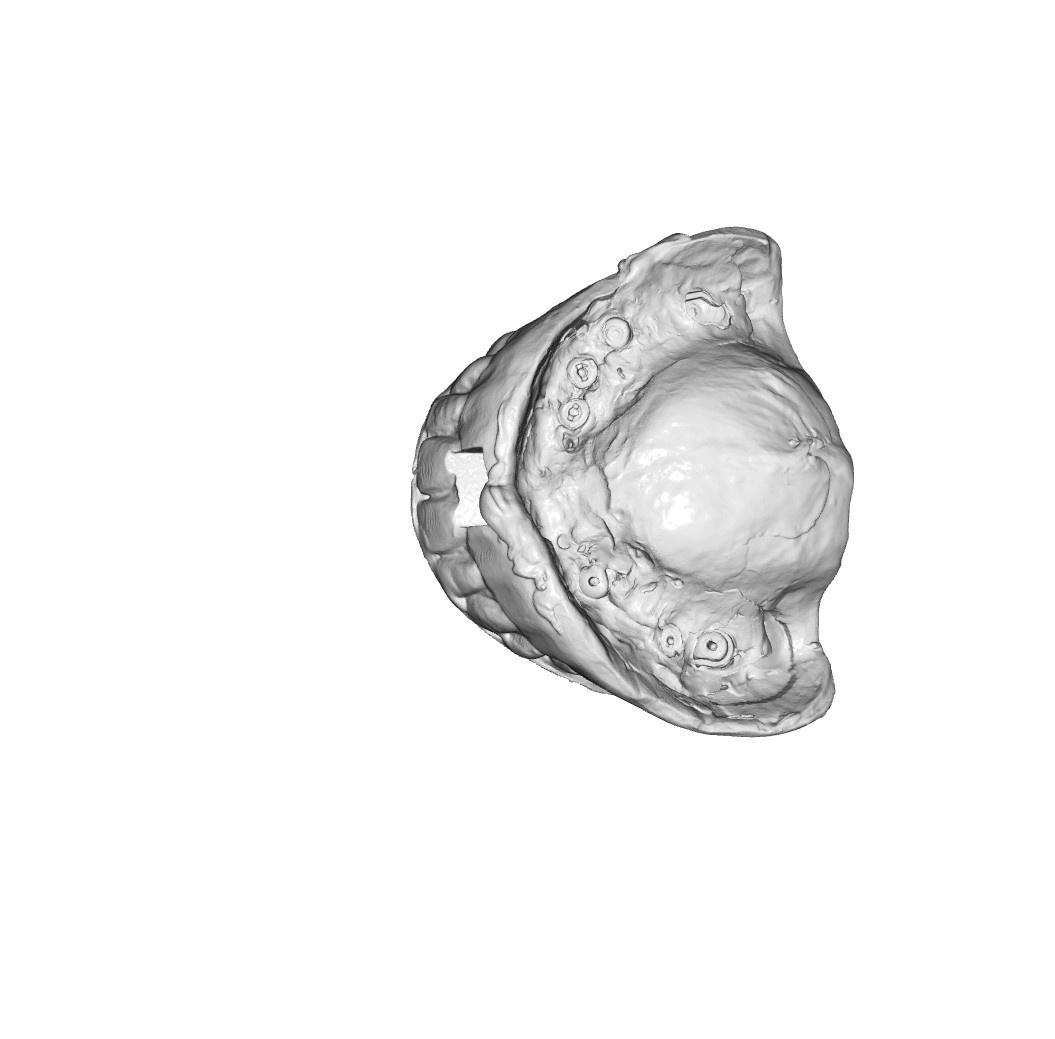implant: (694, 627, 733, 673), (652, 619, 687, 658), (597, 313, 632, 351), (578, 567, 610, 600)
implant_minus: (554, 396, 593, 433), (565, 350, 598, 393)
